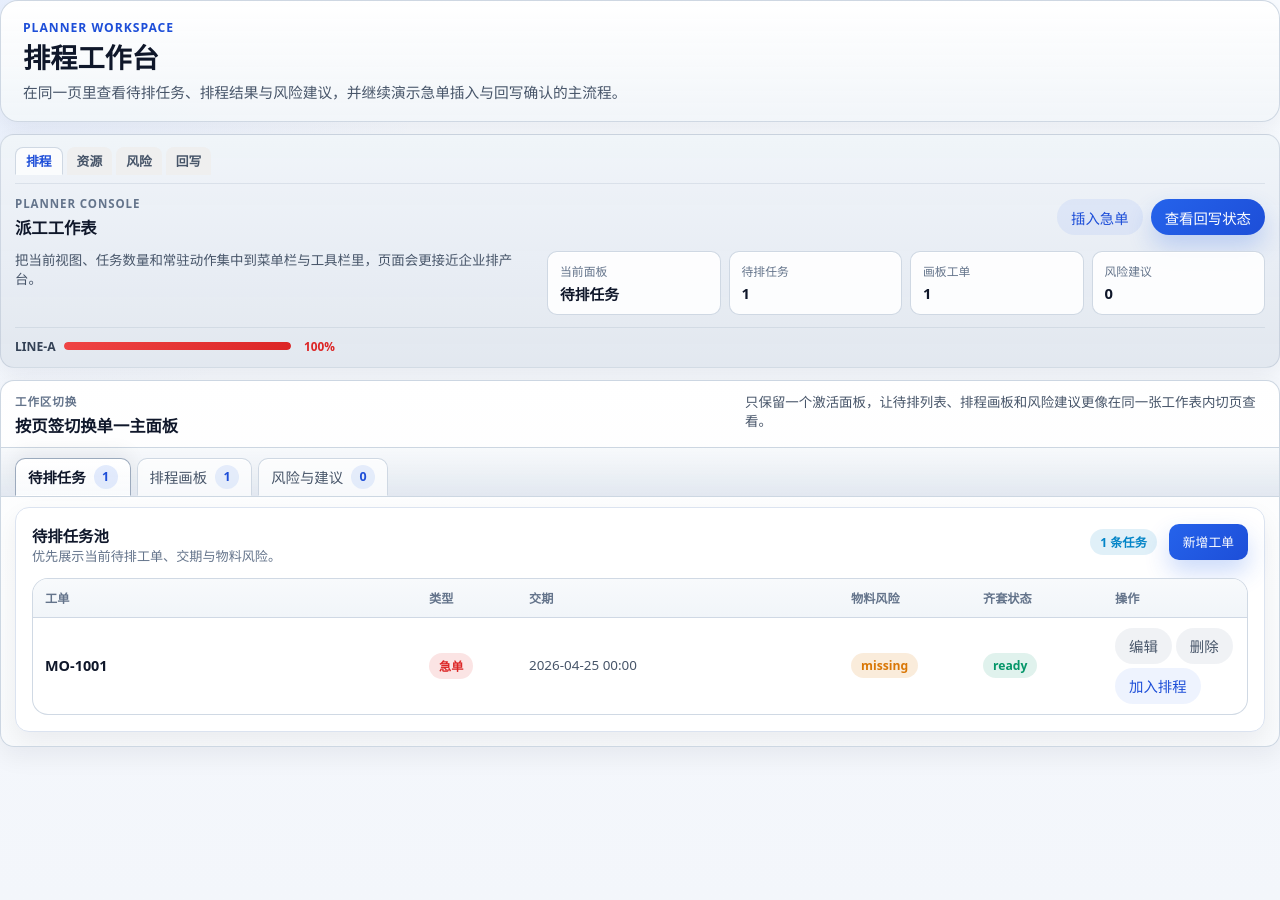
PlannerWorkbenchView integration › 同页重新打开回写弹窗并刷新成功后会清掉上一轮错误并显示后端新状态
Click the button with test id "open-publish-dialog" at (1208, 217), box [1151, 199, 1265, 235]
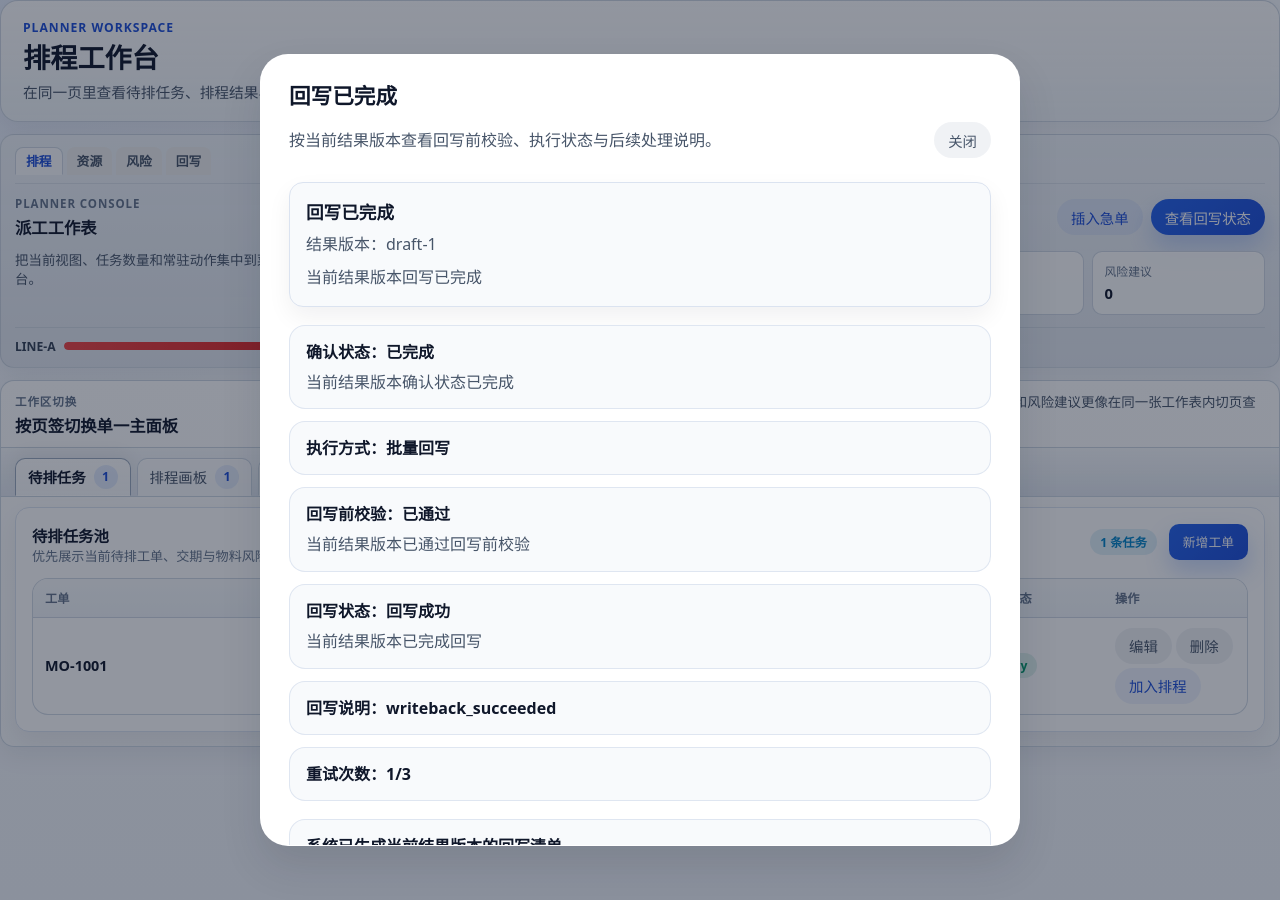
Result: the dialog named "回写已完成" shows "回写已完成" at [289, 81, 397, 110]
Result: the dialog named "回写已完成" shows "当前结果版本回写已完成" at [306, 266, 482, 288]
Result: the dialog named "回写已完成" shows "回写说明：writeback_succeeded" at [306, 697, 556, 719]
